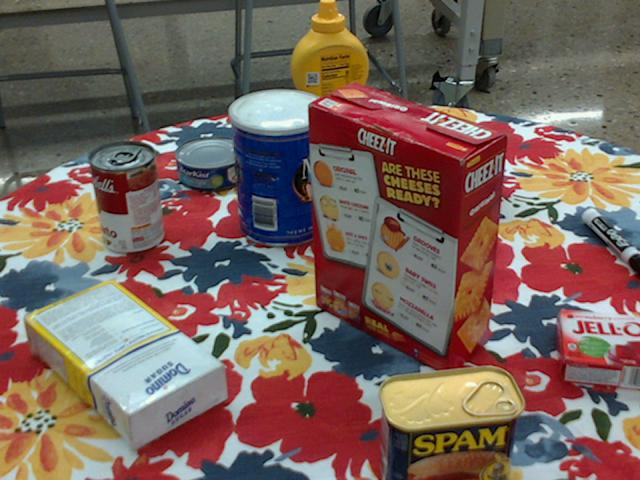cracker_box: (307, 85, 506, 378)
gelatin_box: (556, 309, 639, 387)
large_marker: (581, 206, 639, 275)
master_chef_can: (229, 88, 328, 247)
mug: (415, 119, 501, 206)
mustard_bottle: (290, 0, 369, 157)
potted_meat_can: (377, 366, 524, 479)
sugar_box: (24, 282, 226, 448)
tomato_soup_can: (89, 141, 163, 254)
tuna_fish_can: (176, 136, 247, 190)
